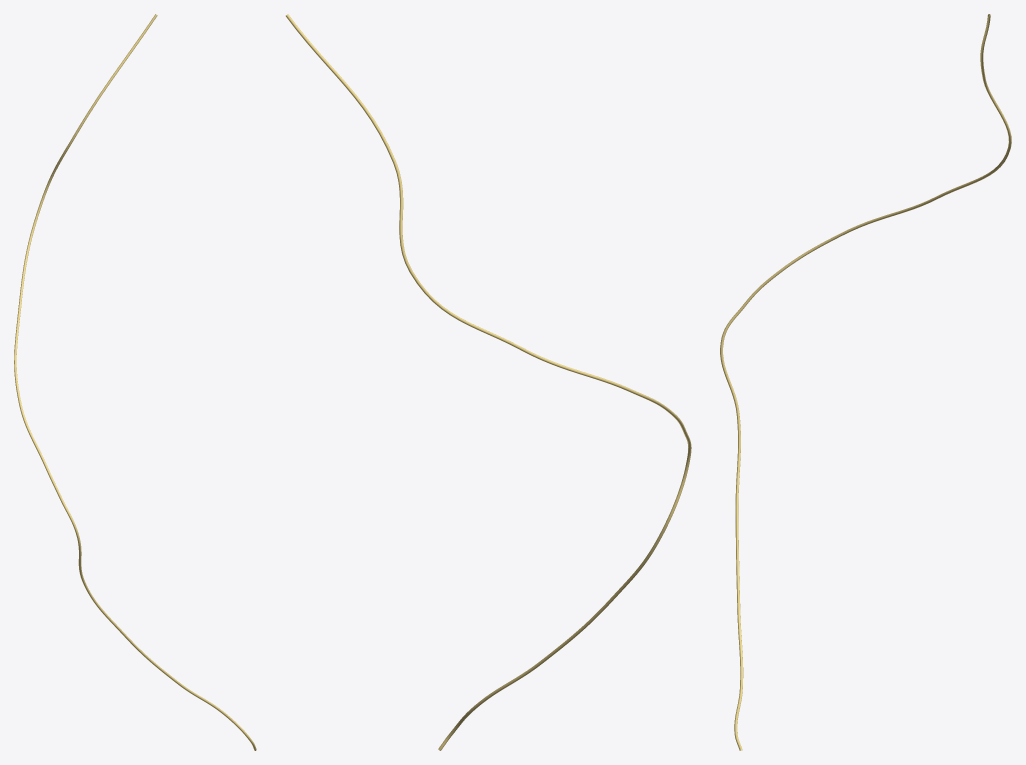
3 views of the same model, side by side, from view 1: azimuth 30°, elevation 25°; view 2: azimuth 150°, elevation 25°; view 3: azimuth 270°, elevation 25° (orthographic). The views are drawn at different scales.
Visible parts, largest first — view 1: ZA_60ca183bab58331b; view 2: ZA_60ca183bab58331b; view 3: ZA_60ca183bab58331b.
Part boxes in pixels (box(x1,y1,x2,y2)): ZA_60ca183bab58331b: box(14, 14, 256, 750); ZA_60ca183bab58331b: box(286, 14, 691, 750); ZA_60ca183bab58331b: box(720, 14, 1011, 750).
Size of the model in its own units: 0.0917 by 0.2748 by 0.0978.
